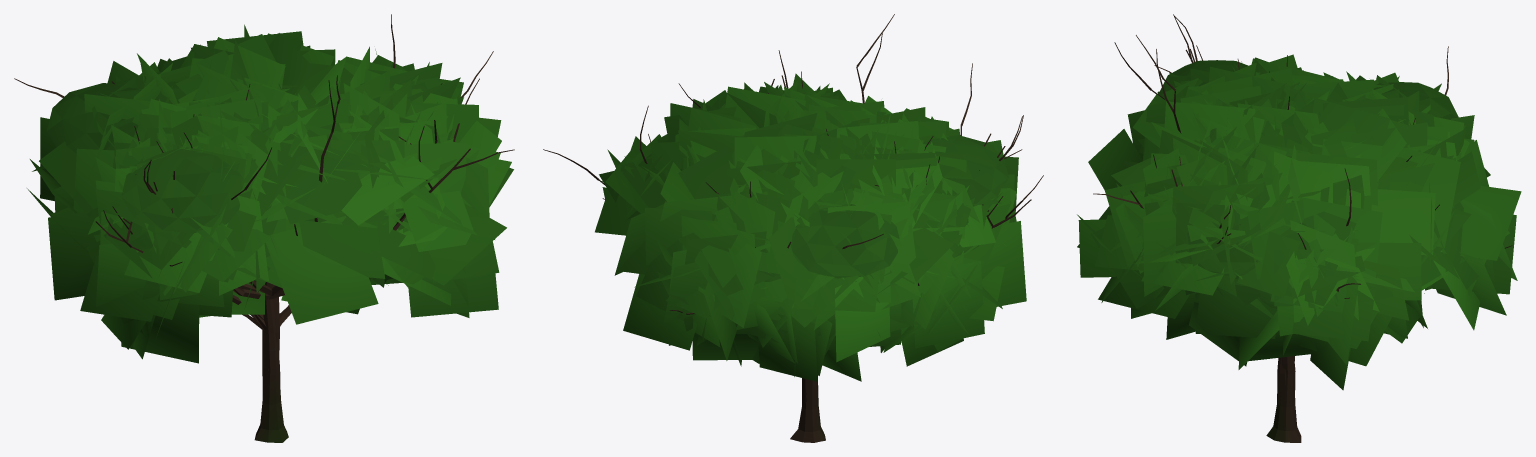
The model's file is dogwood.glb.
3 renders of one model, left to right at view 1: azimuth 30°, elevation 25°; view 2: azimuth 150°, elevation 25°; view 3: azimuth 270°, elevation 25°, orthographic. The views are drawn at different scales.
Parts seen in each view (by area): view 1: tree_dogwood_2, tree_dogwood_1, tree_dogwood_0; view 2: tree_dogwood_1, tree_dogwood_0, tree_dogwood_2; view 3: tree_dogwood_0, tree_dogwood_1, tree_dogwood_2.
Part boxes in pixels (bbox=[...]): tree_dogwood_2: bbox=[27, 33, 493, 442]; tree_dogwood_1: bbox=[80, 14, 513, 442]; tree_dogwood_0: bbox=[14, 24, 514, 442]; tree_dogwood_1: bbox=[600, 63, 1026, 442]; tree_dogwood_0: bbox=[614, 50, 974, 442]; tree_dogwood_2: bbox=[543, 14, 1043, 442]; tree_dogwood_0: bbox=[1077, 46, 1521, 442]; tree_dogwood_1: bbox=[1111, 14, 1474, 442]; tree_dogwood_2: bbox=[1088, 35, 1459, 442].
Size of the model in its own units: 7.77 by 6.57 by 6.78.
